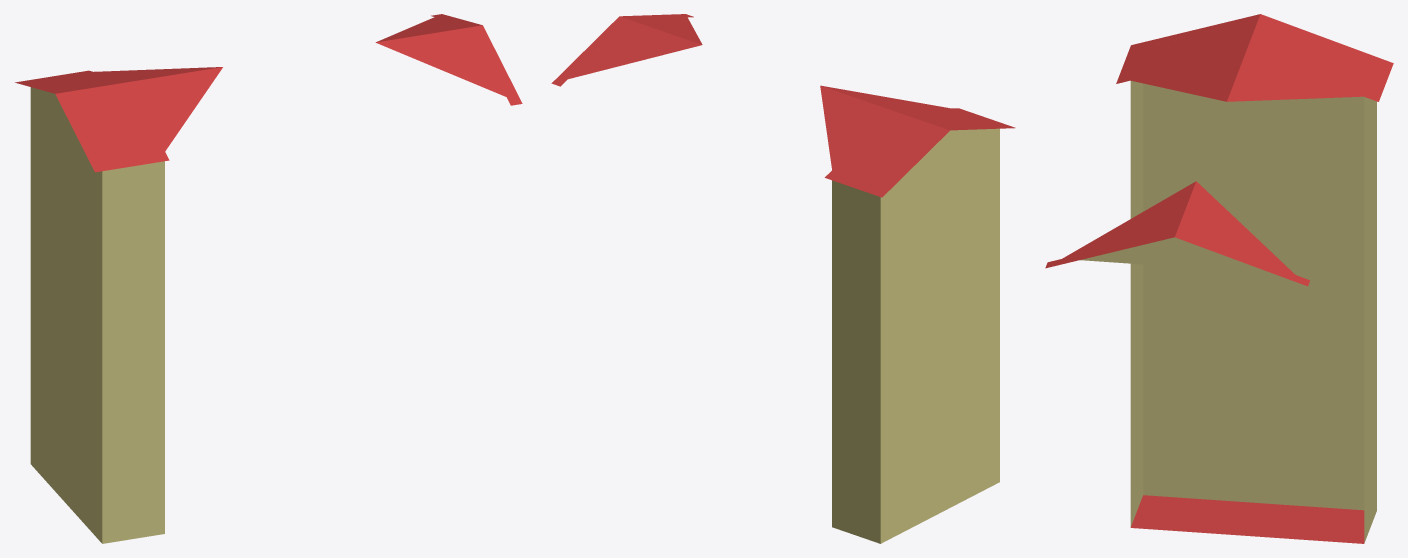
The picture shows the model from 3 angles, left to right: view 1: azimuth 30°, elevation 25°; view 2: azimuth 150°, elevation 25°; view 3: azimuth 270°, elevation 25°; orthographic projection. The views are drawn at different scales.
Size of the model in its own units: 9.69 by 5.92 by 9.04.
